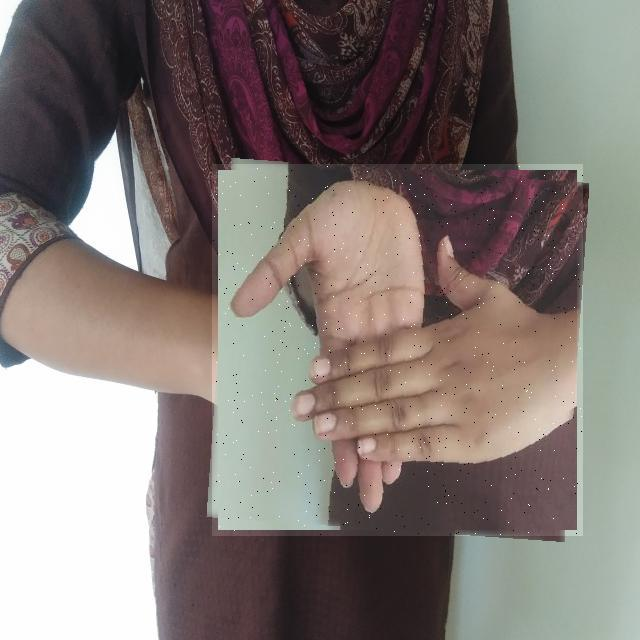H: (212, 164, 583, 536)
